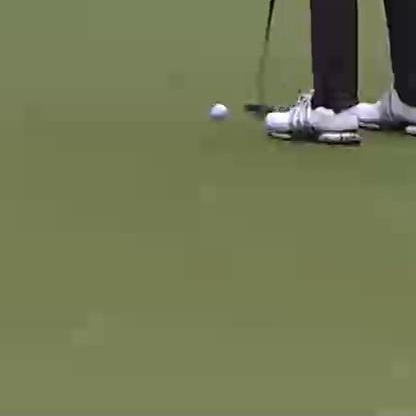golfball: (207, 101, 227, 119)
